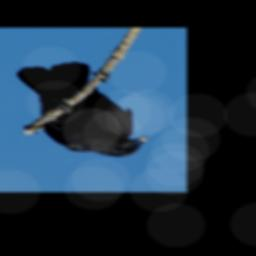Crow: (15, 61, 149, 157)
